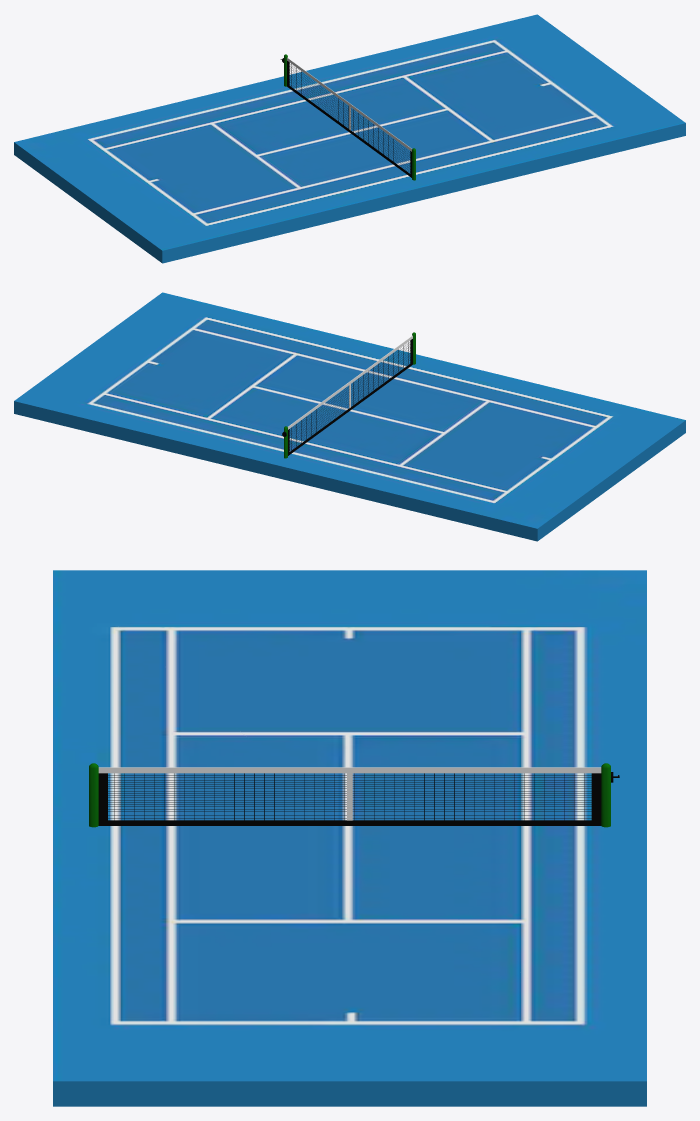
The model's file is Tennis_court_compressed.glb.
3 views of the same model, one above another, from view 1: azimuth 30°, elevation 25°; view 2: azimuth 150°, elevation 25°; view 3: azimuth 270°, elevation 25° (orthographic). The views are drawn at different scales.
Visible parts, largest first — view 1: Court, Net; view 2: Court, Net; view 3: Court, Net.
Part boxes in pixels (x1,y1,x2,y2): Court: (14,14,685,263); Net: (280,54,415,180); Court: (14,292,685,541); Net: (282,332,415,458); Court: (53,570,646,1106); Net: (89,763,619,827).
Size of the model in its own units: 24.03 by 1.93 by 11.81.
Materials: 5 (2 with a texture image).
